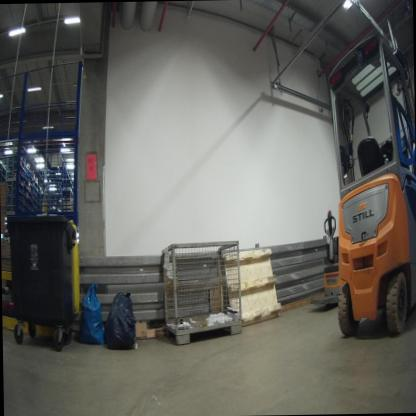forklift: (319, 13, 416, 348)
pallet_truck: (312, 196, 349, 318)
stillage: (146, 226, 245, 361)
